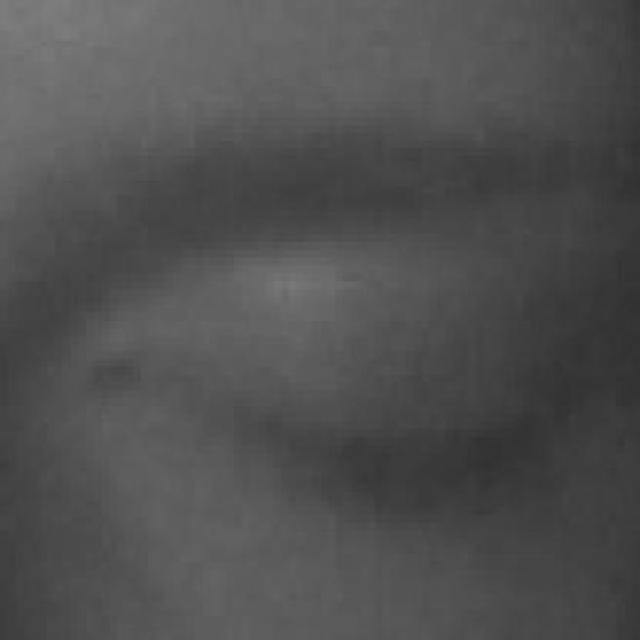drowsy: (237, 266, 546, 636)
